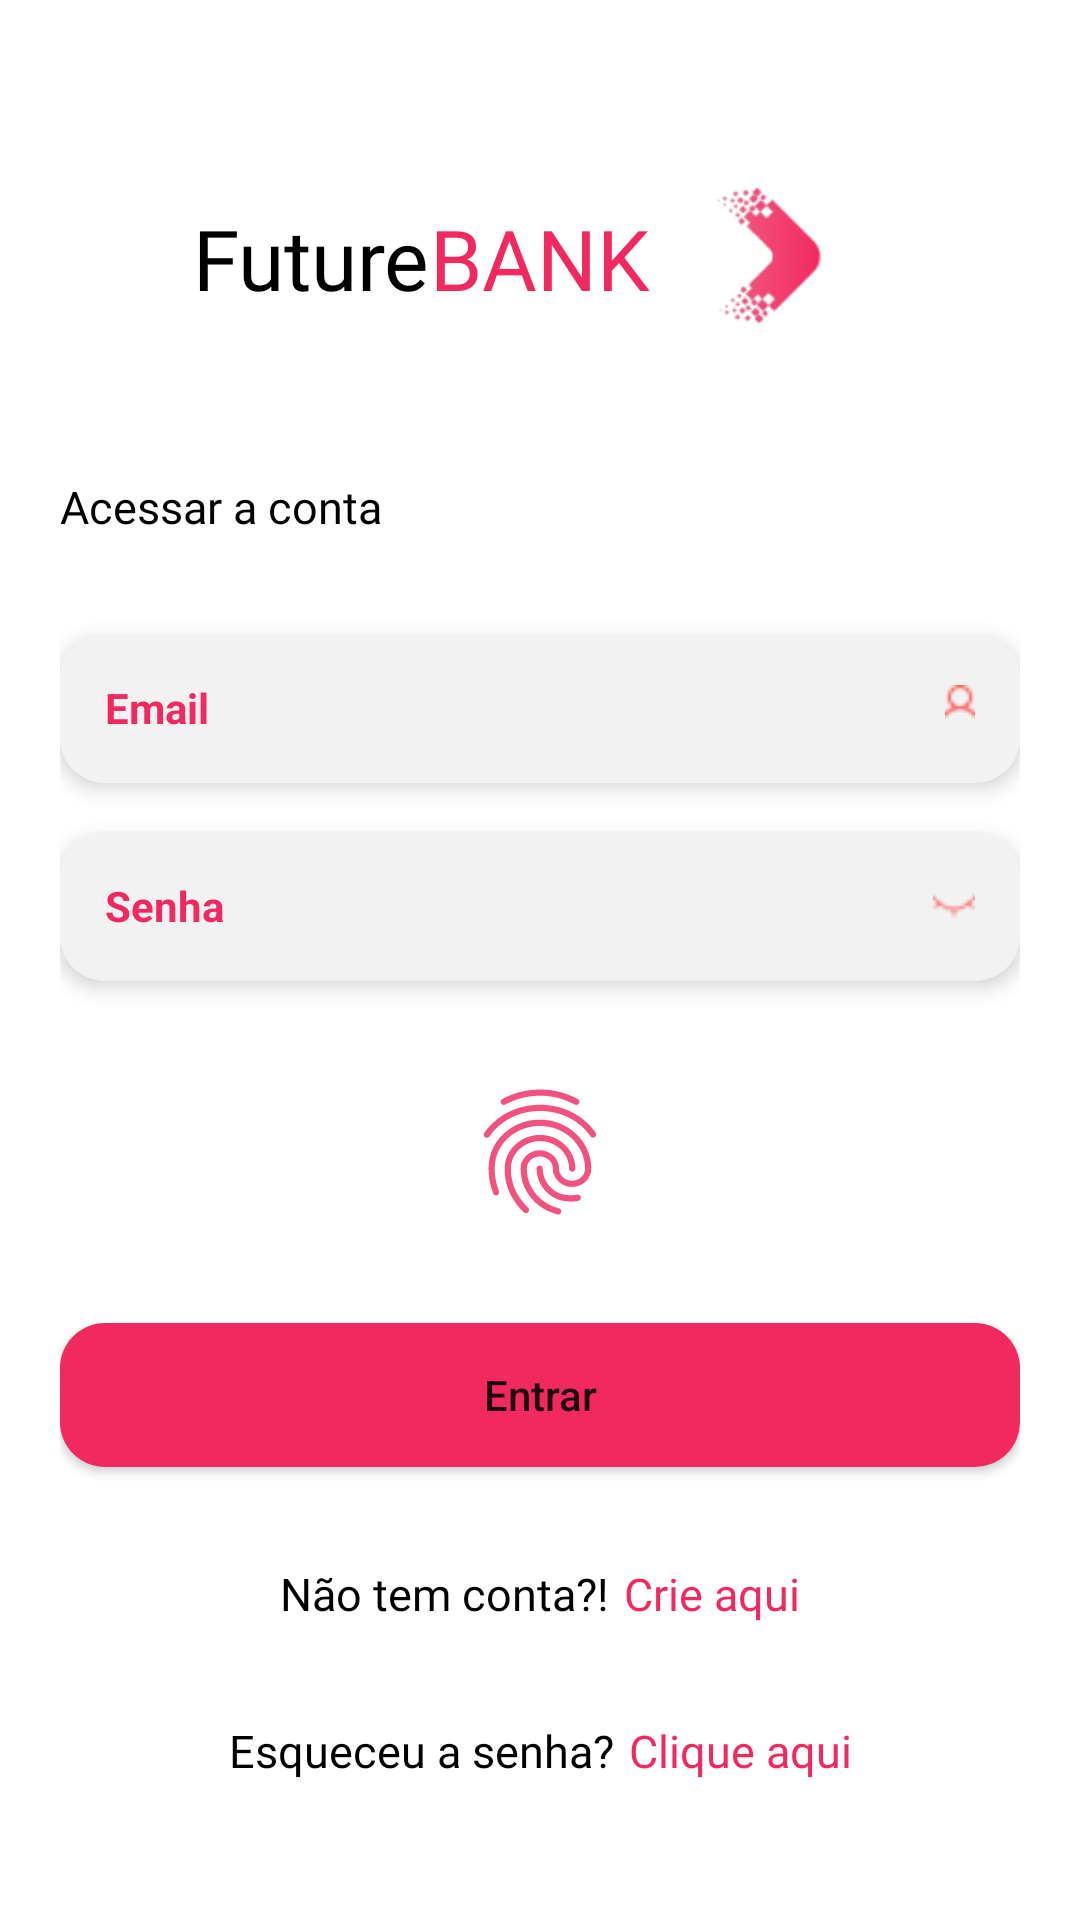

Point at icon controls on the screen. Image size 1080*1920, points as (x,y).
fingerprint: (540,1152)
